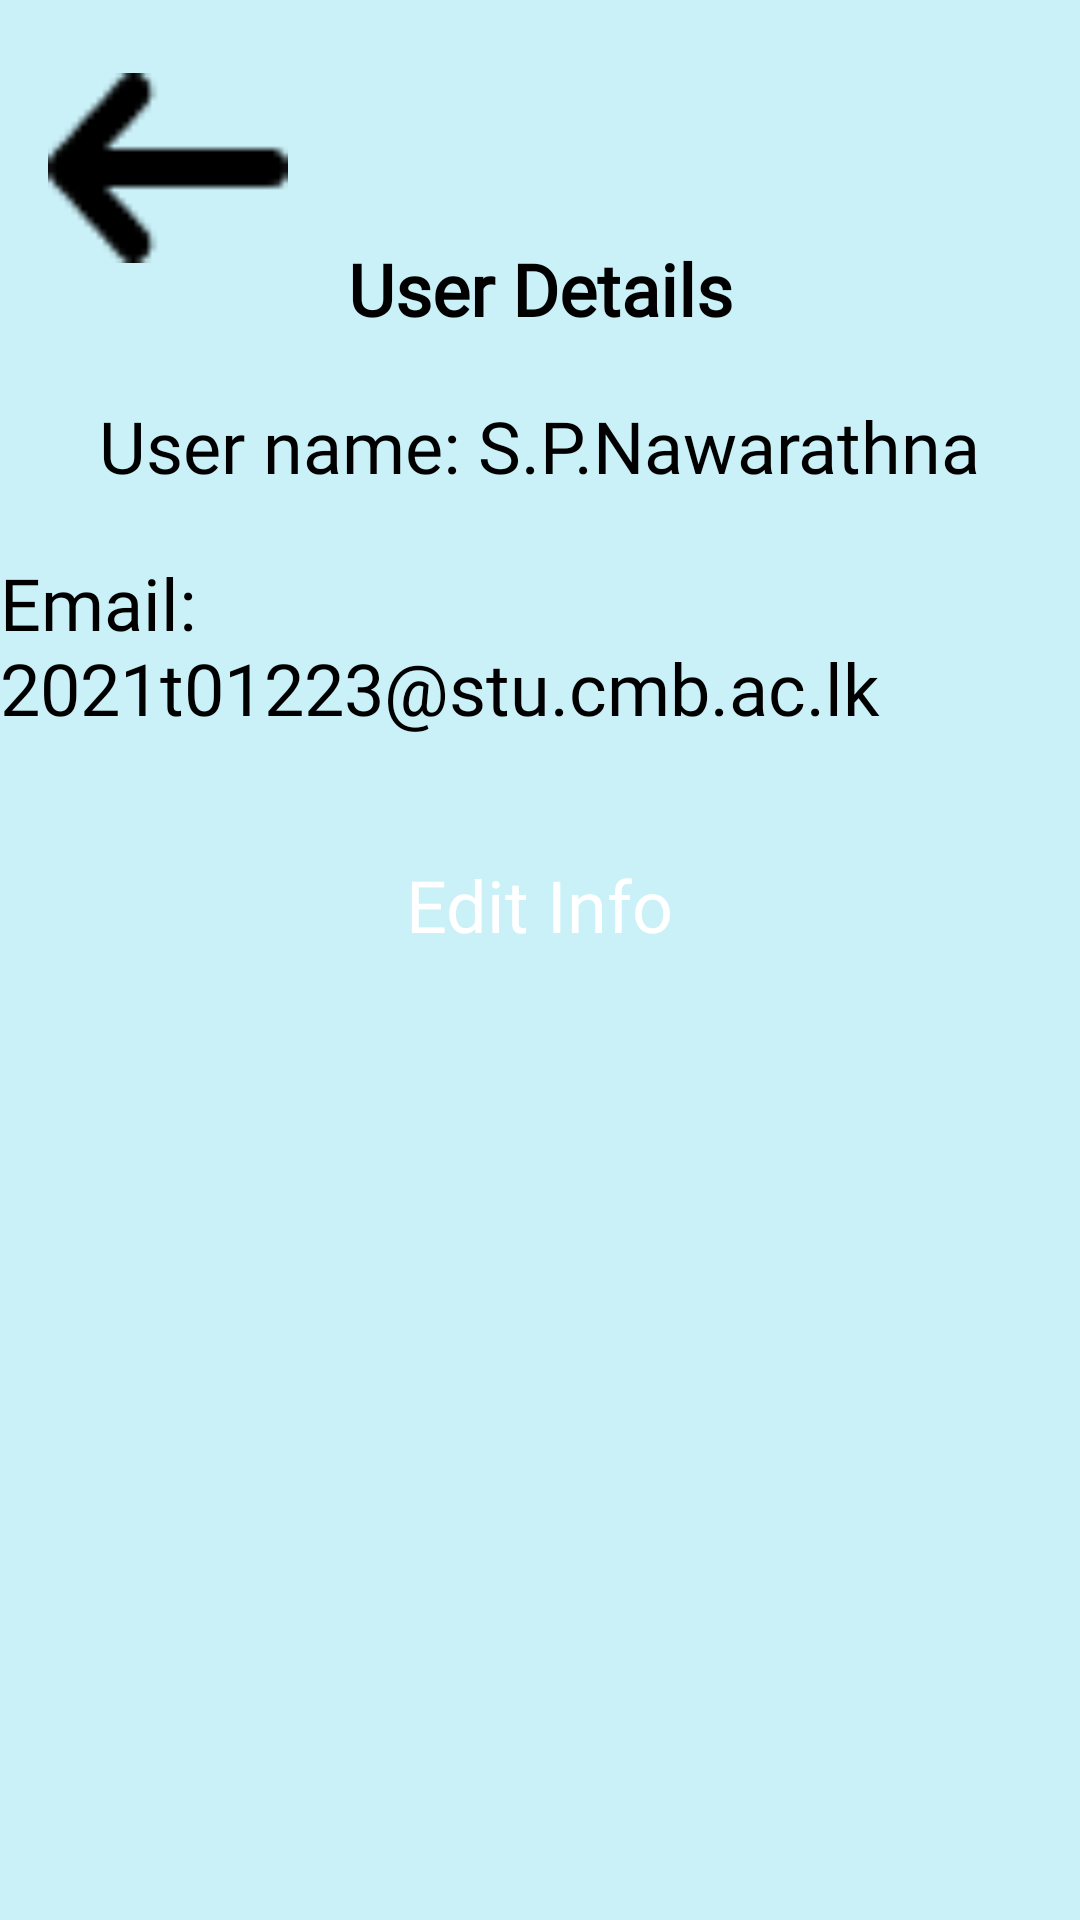

Icons on this 1080*1920 Android screen, each with its box as (x1, y1, x2, y2):
back: (48, 73, 288, 263)
